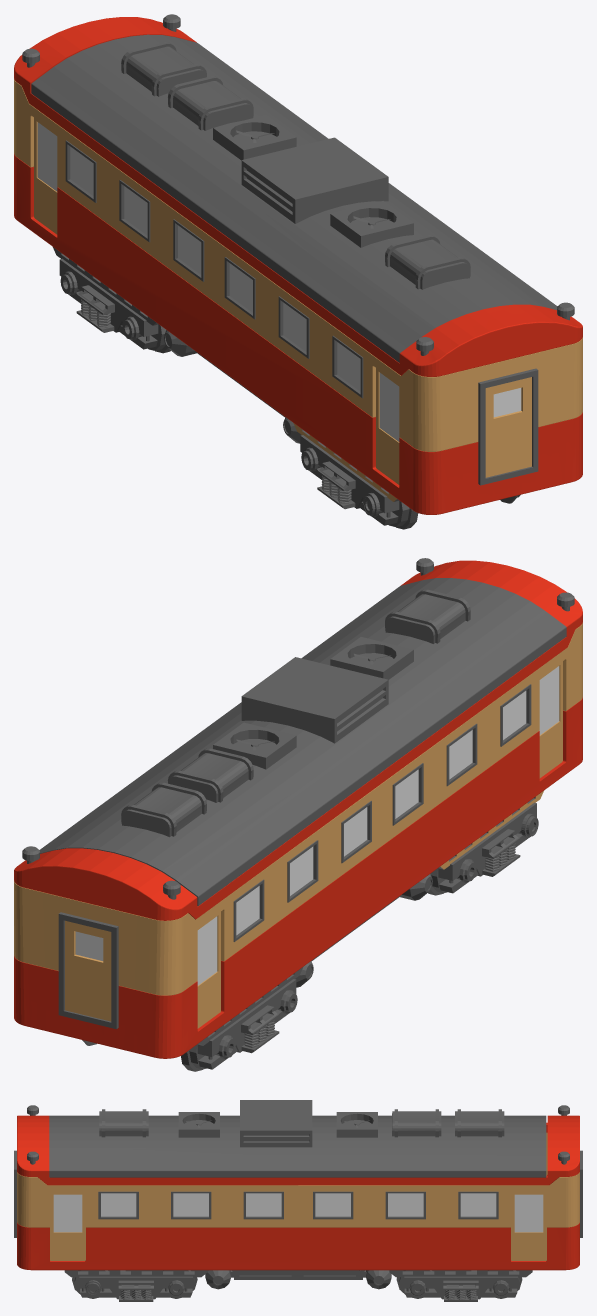
The model's file is Train.fbx.
3 renders of one model, top to bottom at view 1: azimuth 30°, elevation 25°; view 2: azimuth 150°, elevation 25°; view 3: azimuth 270°, elevation 25°, orthographic. The views are drawn at different scales.
Parts seen in each view (by area): view 1: Train; view 2: Train; view 3: Train.
Boxes of the visible parts, x1,y1,x2,y2 form: Train: (14, 14, 582, 529); Train: (14, 558, 582, 1071); Train: (14, 1100, 582, 1301).
Size of the model in its own units: 381 by 505 by 1567.
